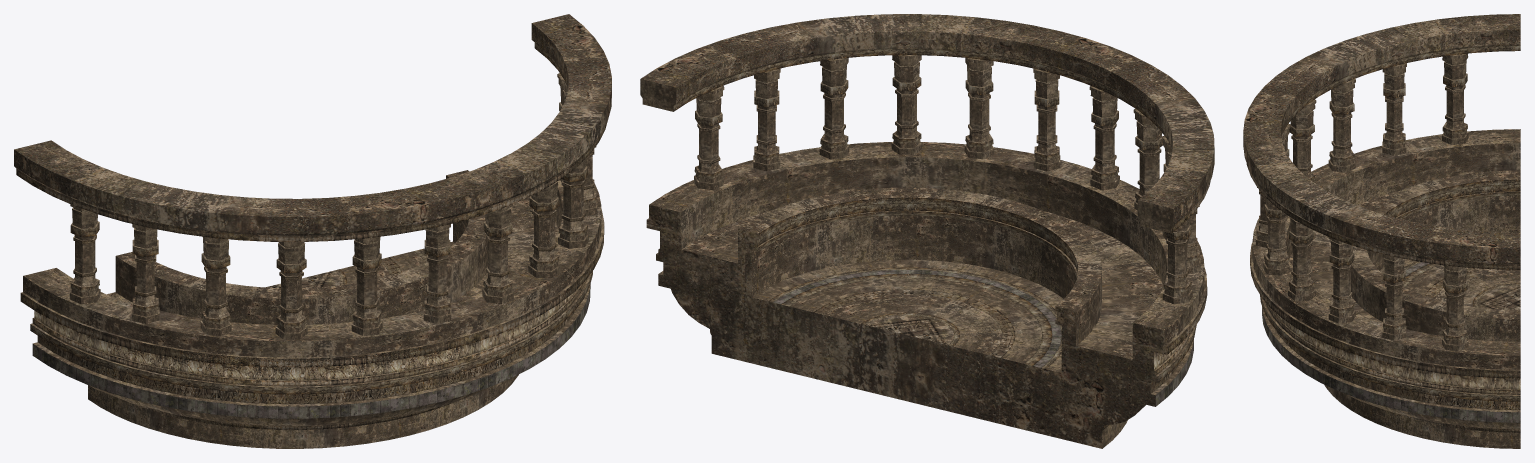
The model's file is materials_5_balcony_4.fbx.
3 renders of one model, left to right at view 1: azimuth 30°, elevation 25°; view 2: azimuth 150°, elevation 25°; view 3: azimuth 270°, elevation 25°, orthographic. The views are drawn at different scales.
Parts seen in each view (by area): view 1: materials_5_balcony_4; view 2: materials_5_balcony_4; view 3: materials_5_balcony_4.
Boxes of the visible parts, x1,y1,x2,y2 form: materials_5_balcony_4: (14,14,611,448); materials_5_balcony_4: (640,14,1214,448); materials_5_balcony_4: (1243,14,1520,448).
Bounding box in the file's own units: 586 × 270 × 293.
